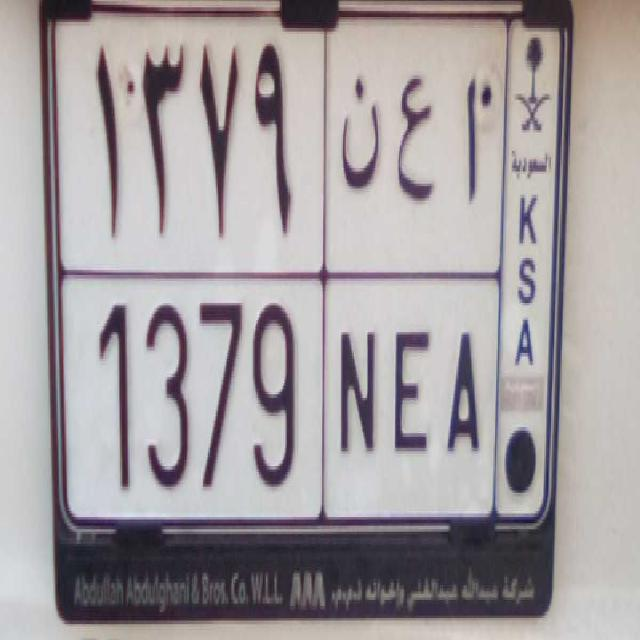license_plate: (58, 266, 498, 527)
